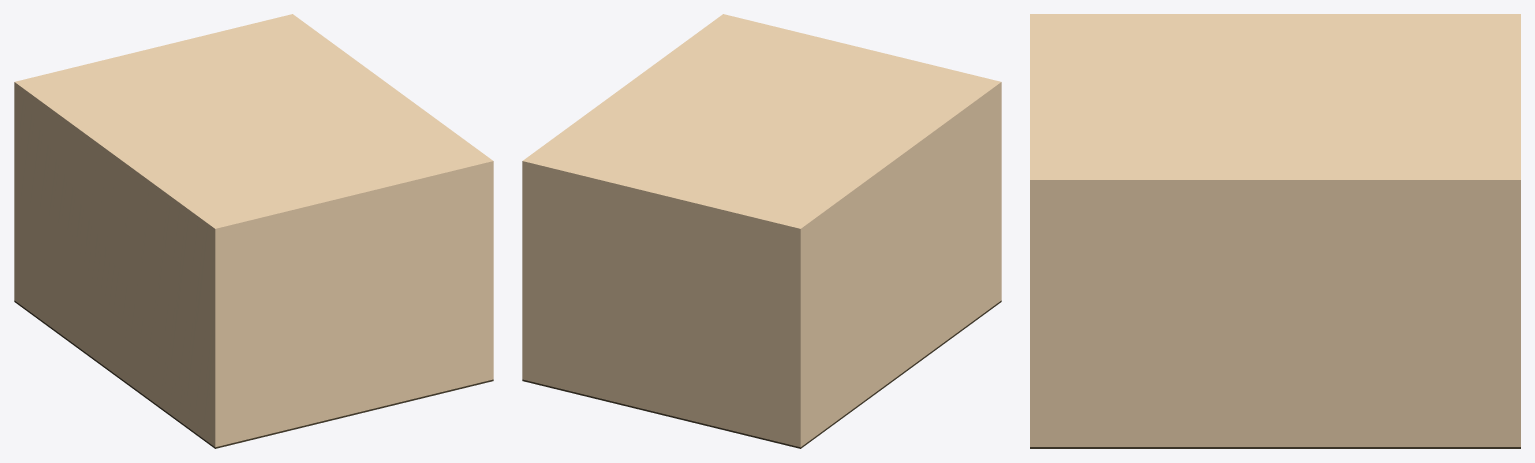
Rendered from workshop_env_color2.fbx.
3 views of the same model, side by side, from view 1: azimuth 30°, elevation 25°; view 2: azimuth 150°, elevation 25°; view 3: azimuth 270°, elevation 25° (orthographic). The views are drawn at different scales.
Visible parts, largest first — view 1: walls, floor; view 2: walls, floor; view 3: walls, floor.
Boxes of the visible parts, left/top/right/bottom form: walls: left=14, top=14, right=493, bottom=447; floor: left=14, top=300, right=493, bottom=448; walls: left=522, top=14, right=1001, bottom=447; floor: left=522, top=300, right=1001, bottom=448; walls: left=1030, top=14, right=1520, bottom=446; floor: left=1030, top=447, right=1520, bottom=448.
Bounding box in the file's own units: 1600 × 1209 × 2000.
